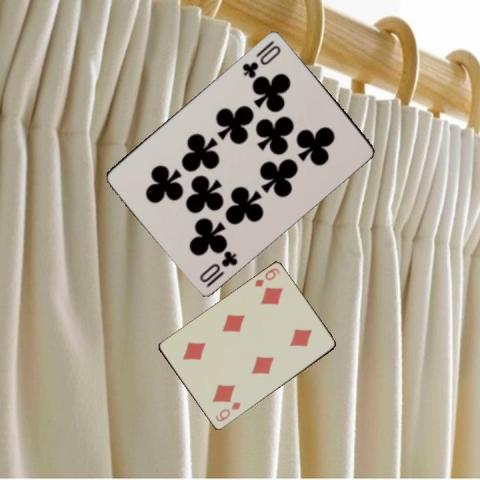10c: (238, 37, 282, 79), (197, 247, 239, 288)
6d: (251, 265, 281, 289), (213, 400, 242, 424)
